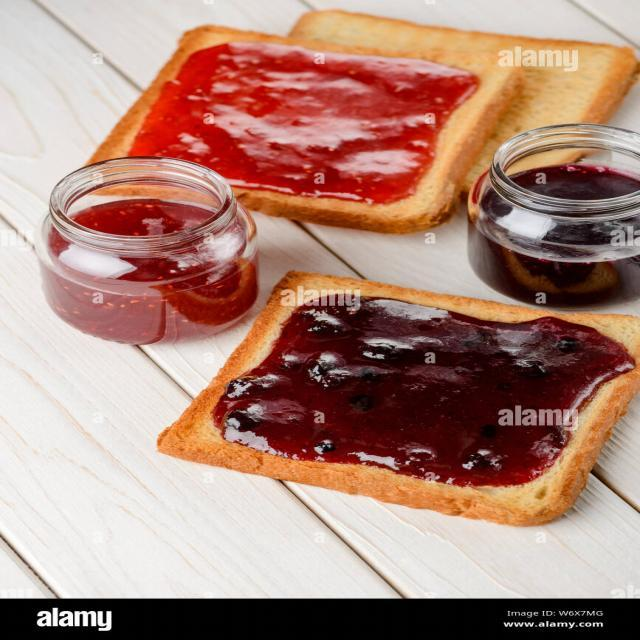Spread: (263, 305, 556, 467), (180, 53, 398, 185)
